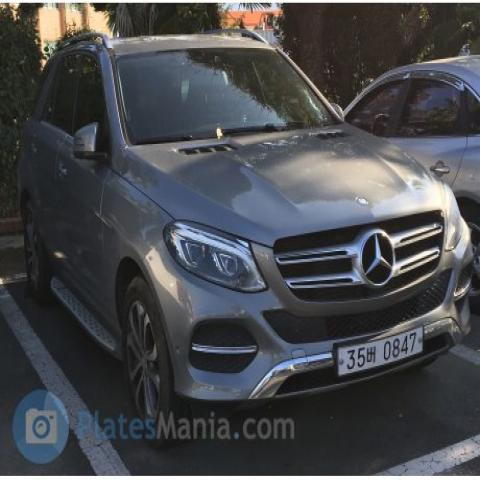LP: (331, 320, 430, 387)
